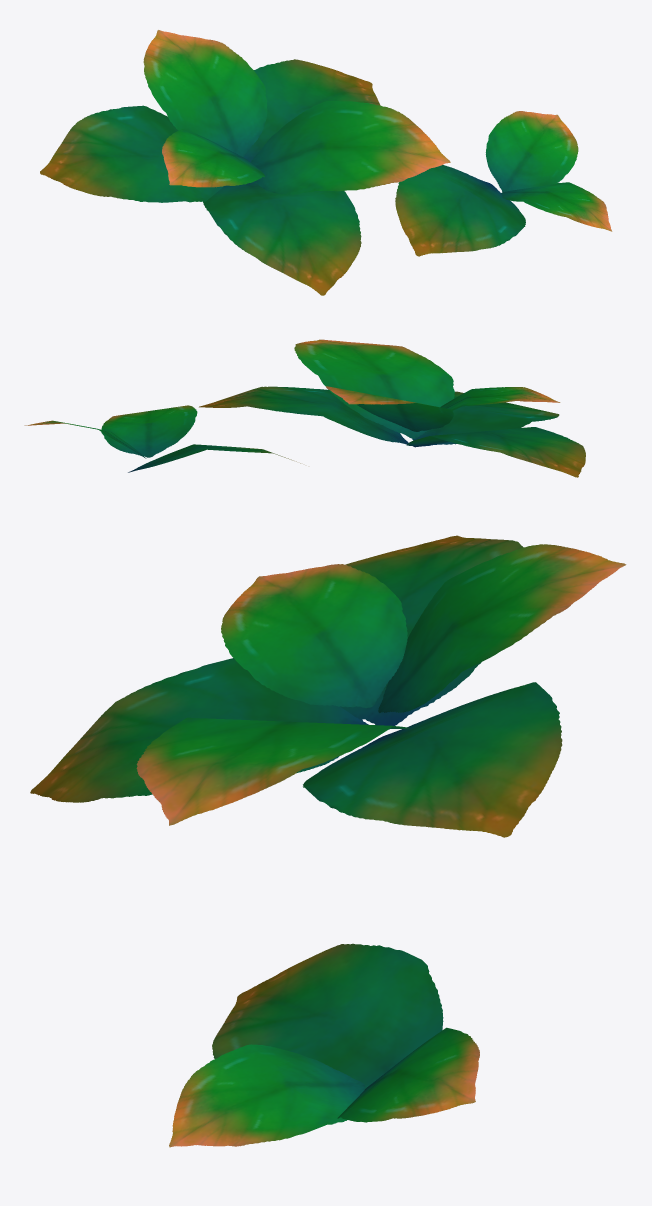
File: huacao12.FBX
The picture shows the model from 3 angles, top to bottom: view 1: azimuth 30°, elevation 25°; view 2: azimuth 150°, elevation 25°; view 3: azimuth 270°, elevation 25°; orthographic projection. The views are drawn at different scales.
Parts seen in each view (by area): view 1: huacao12; view 2: huacao12; view 3: huacao12.
Part boxes in pixels (x1=…): huacao12: x1=40, y1=30, x2=612, y2=295; huacao12: x1=24, y1=339, x2=585, y2=477; huacao12: x1=30, y1=535, x2=626, y2=1147.
Size of the model in its own units: 1921 by 662 by 1061.
